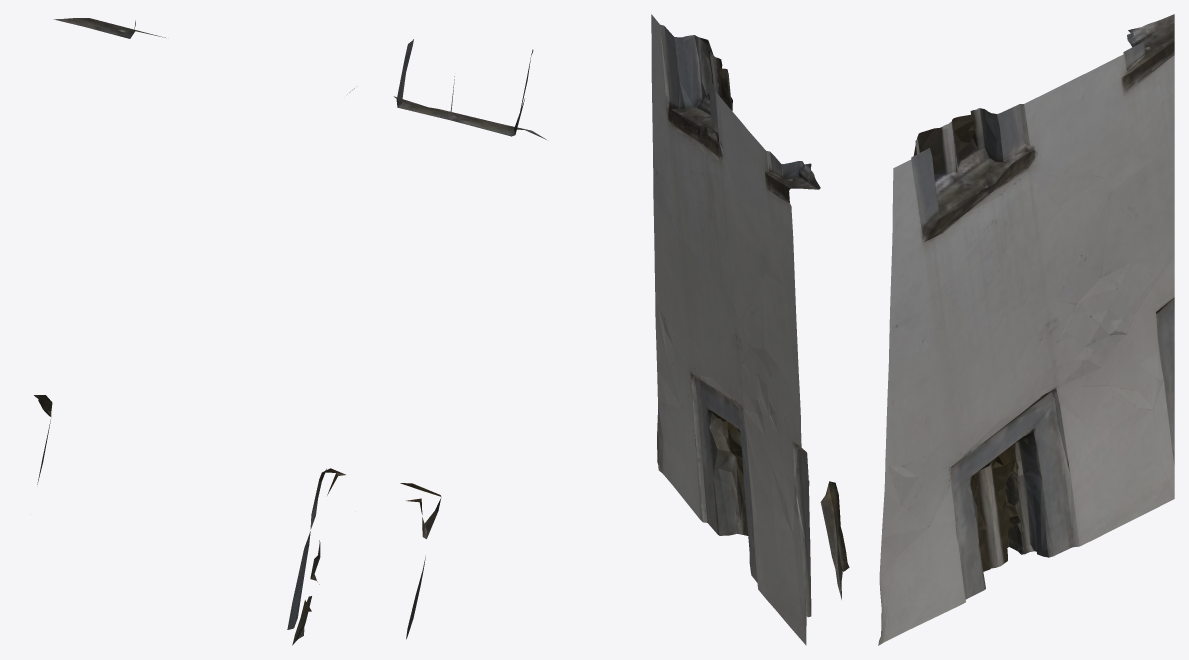
3 views of the same model, side by side, from view 1: azimuth 30°, elevation 25°; view 2: azimuth 150°, elevation 25°; view 3: azimuth 270°, elevation 25° (orthographic). The views are drawn at different scales.
Size of the model in its own units: 2.54 by 3.35 by 1.88.
2 materials, 2 textured.
